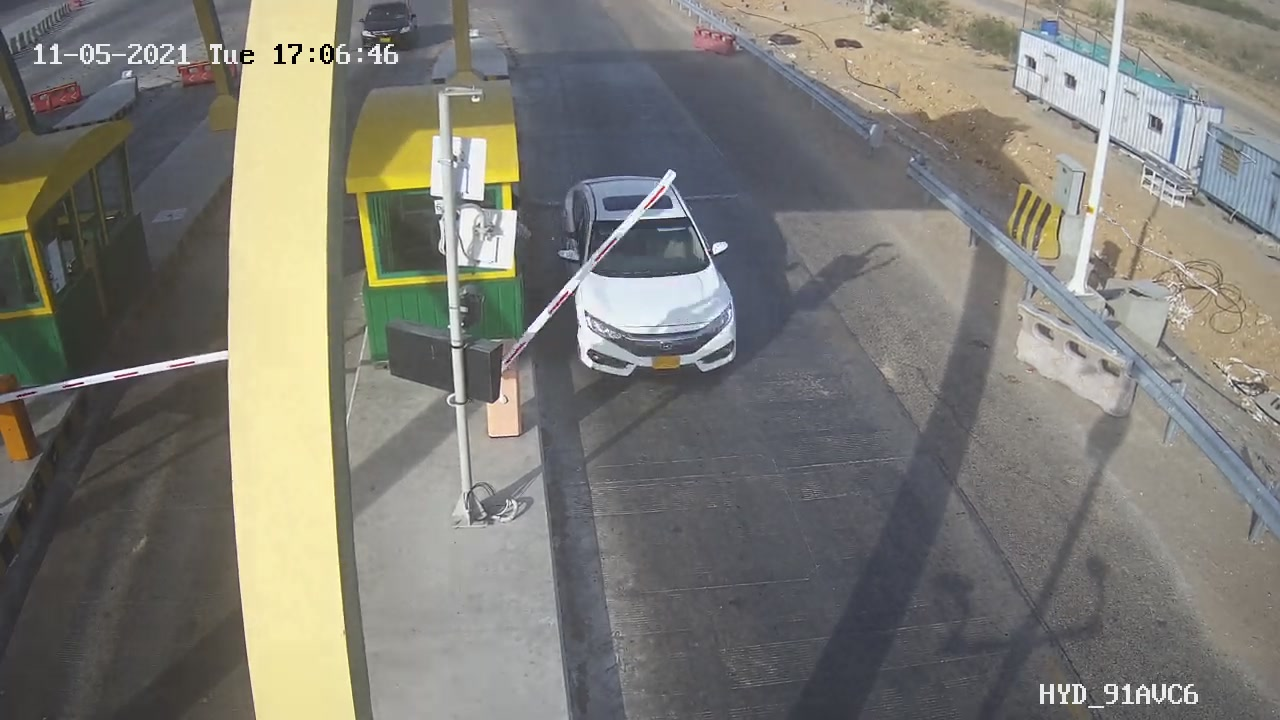F1: (540, 157, 759, 391)
